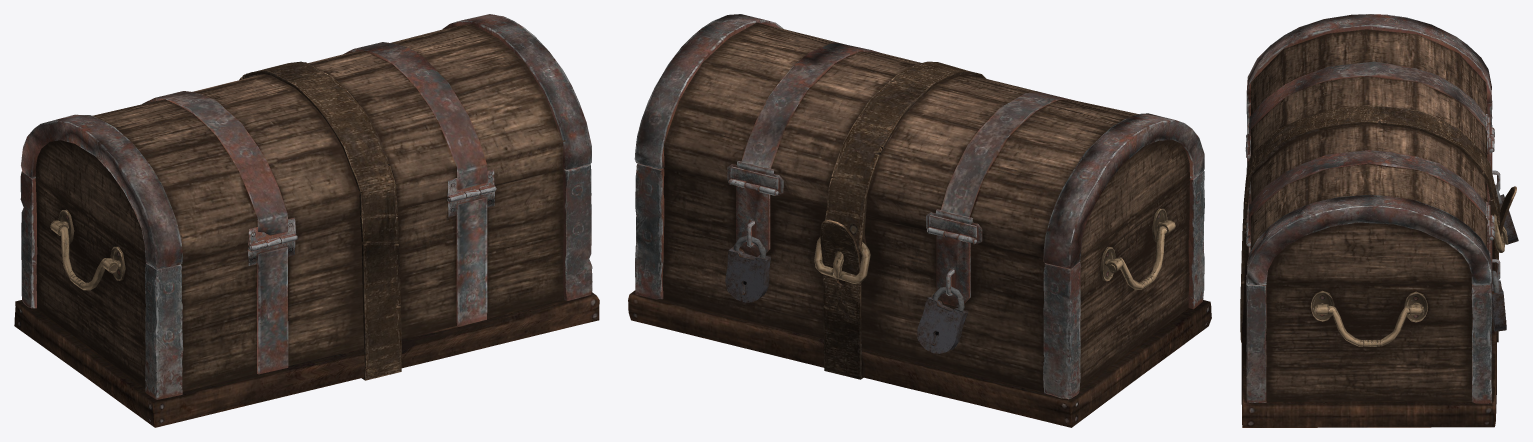
The model's file is chest_medieval.glb.
3 views of the same model, side by side, from view 1: azimuth 30°, elevation 25°; view 2: azimuth 150°, elevation 25°; view 3: azimuth 270°, elevation 25° (orthographic). The views are drawn at different scales.
Parts seen in each view (by area): view 1: defaultMaterial; view 2: defaultMaterial, defaultMaterial.001; view 3: defaultMaterial, defaultMaterial.001.
Boxes of the visible parts, left/top/right/bottom form: defaultMaterial: left=14, top=14, right=599, bottom=427; defaultMaterial: left=628, top=14, right=1211, bottom=427; defaultMaterial.001: left=917, top=286, right=968, bottom=353; defaultMaterial: left=1240, top=14, right=1516, bottom=427; defaultMaterial.001: left=1495, top=184, right=1518, bottom=244.
Bounding box in the file's own units: 2 × 1.03 × 1.15.
1 material, 1 textured.
